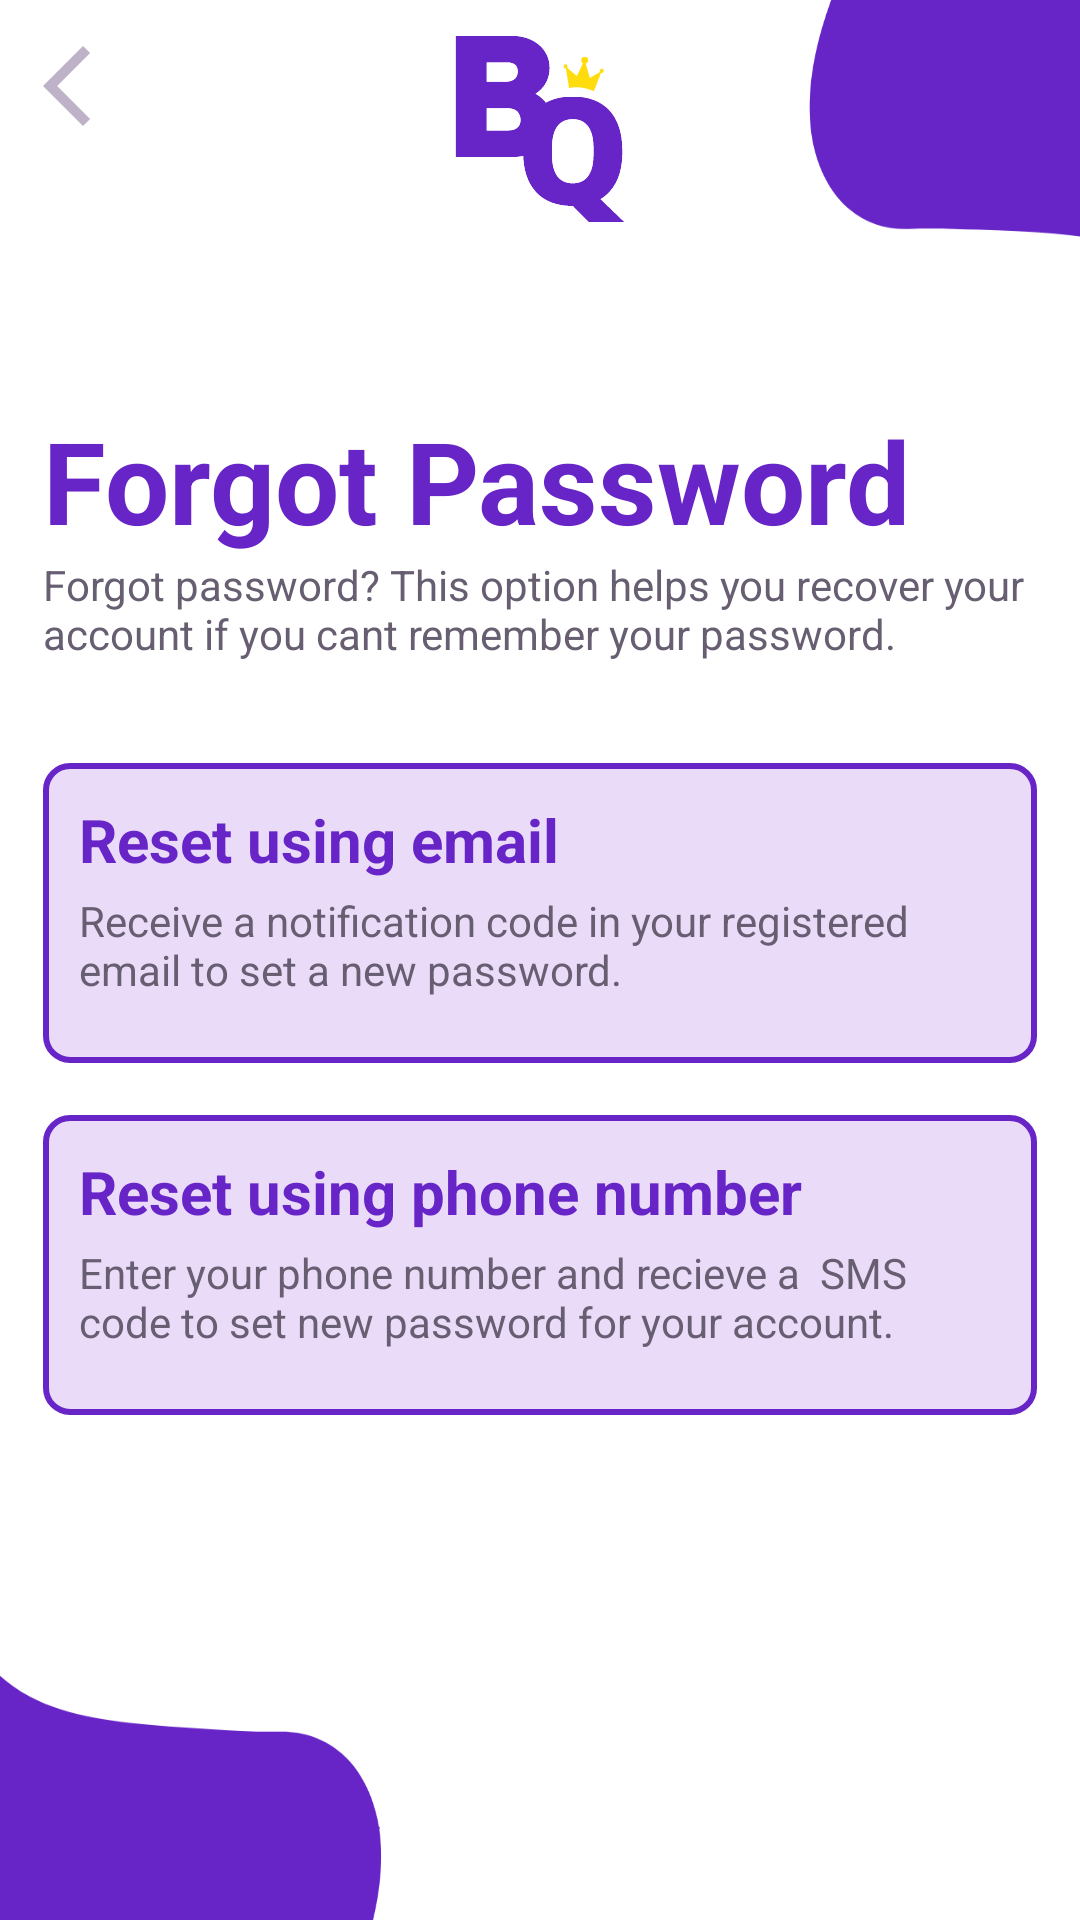

Where icons sit on this 1080*1920 app screen, as (x1, y1, x2, y2):
go back: (43, 46, 90, 126)
